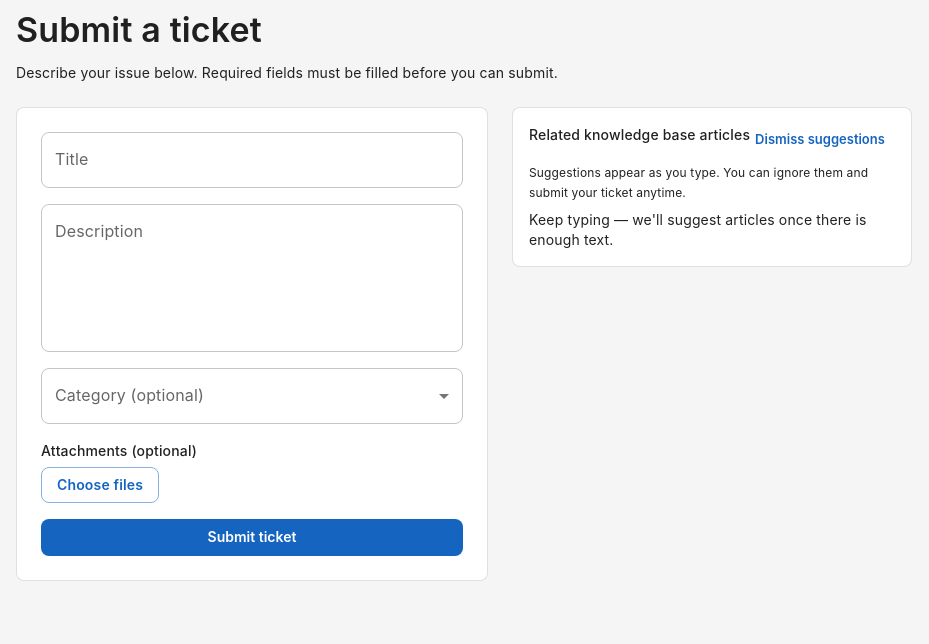
Test case: TicketSubmitPage › shows validation errors when required fields are empty
This screenshot has width=929, height=644.
What coordinates should you click on to do the following:
click the button "Submit ticket"
I would click on:
 (252, 538)
Its box is [41,519,463,556].
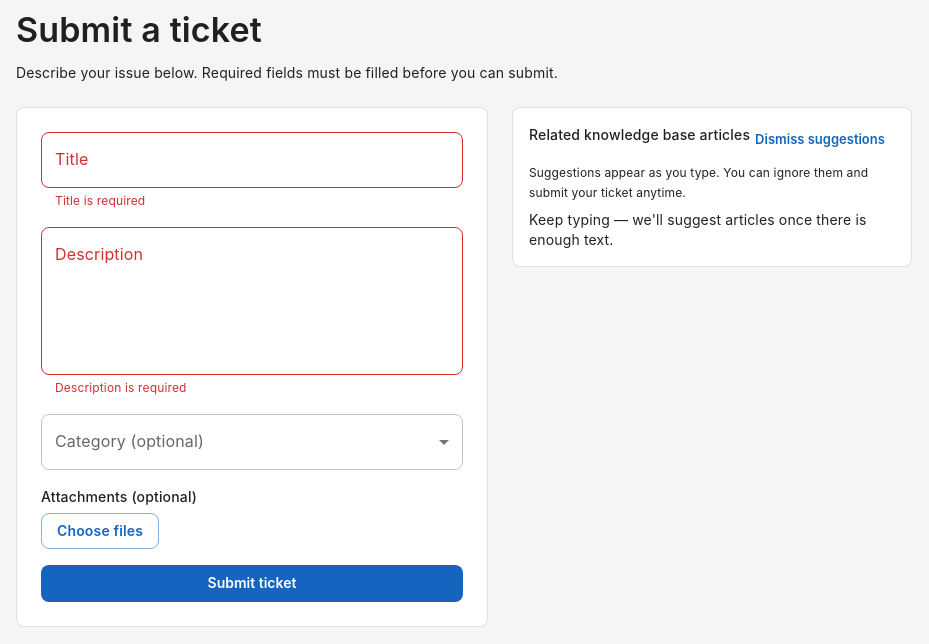
Result: the text "Title is required" is shown at [55,193,145,208]
Result: the text "Description is required" is shown at [55,380,187,395]
